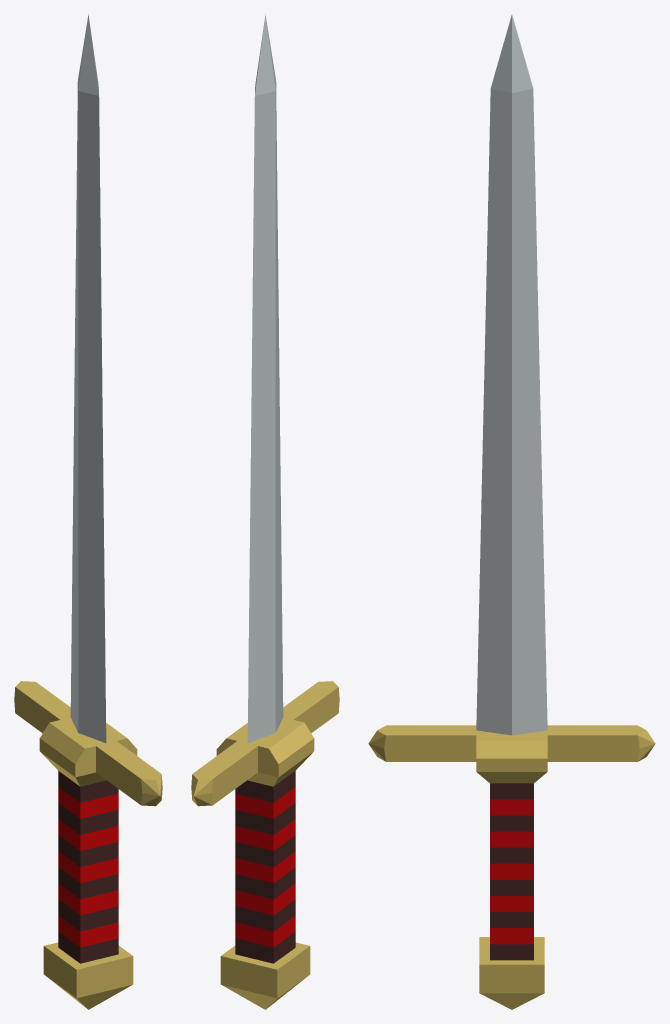
Rendered from Sword1.fbx.
3 views of the same model, side by side, from view 1: azimuth 30°, elevation 25°; view 2: azimuth 150°, elevation 25°; view 3: azimuth 270°, elevation 25° (orthographic).
Visible parts, largest first — view 1: Cube.001, Cube, Cube.002, Cube.003; view 2: Cube.001, Cube, Cube.002, Cube.003; view 3: Cube.001, Cube, Cube.002, Cube.003.
Boxes of the visible parts, x1,y1,x2,y2 form: Cube.001: [70, 14, 106, 743]; Cube: [14, 681, 162, 1009]; Cube.002: [58, 771, 118, 963]; Cube.003: [58, 787, 118, 947]; Cube.001: [247, 14, 283, 743]; Cube: [191, 681, 339, 1009]; Cube.002: [235, 771, 295, 963]; Cube.003: [235, 787, 295, 947]; Cube.001: [476, 15, 547, 735]; Cube: [368, 720, 655, 1009]; Cube.002: [490, 783, 533, 960]; Cube.003: [490, 799, 533, 944].
Size of the model in its own units: 57.01 by 878 by 230.
